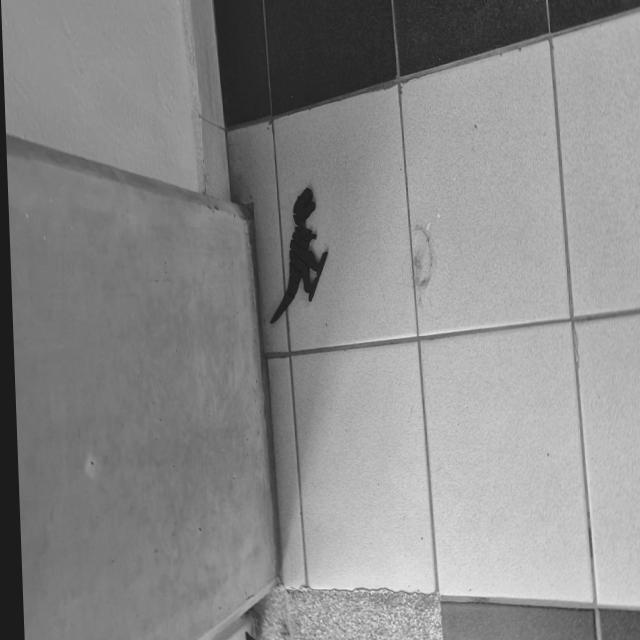dino: (263, 187, 331, 325)
